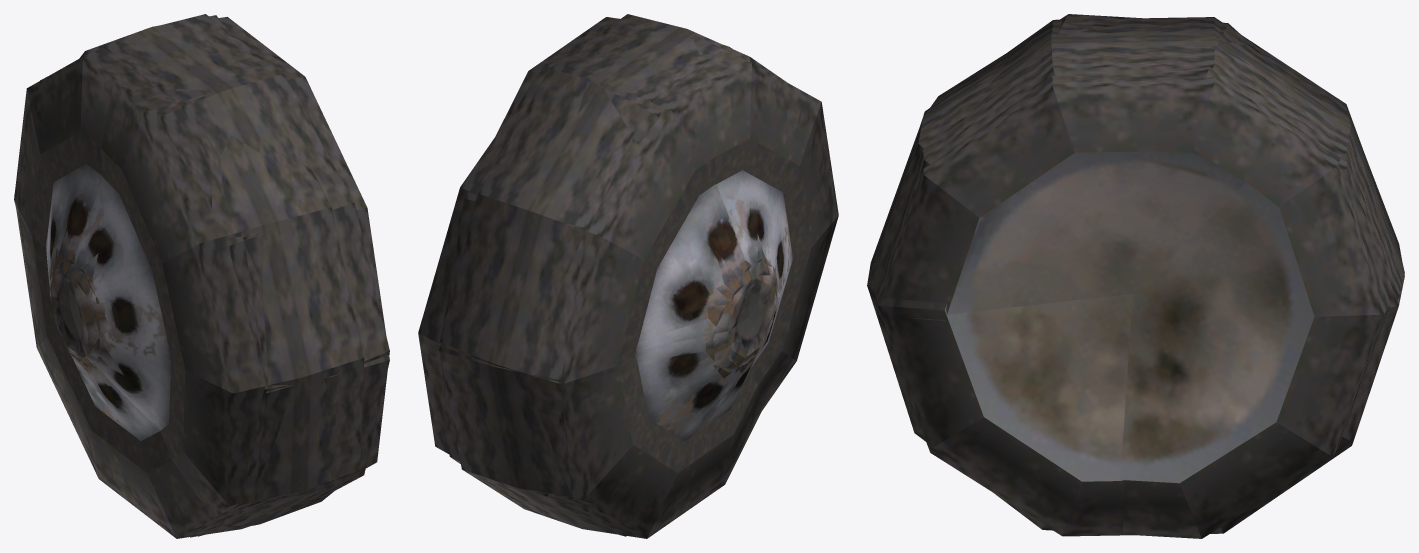
File: Wheel01.fbx
3 views of the same model, side by side, from view 1: azimuth 30°, elevation 25°; view 2: azimuth 150°, elevation 25°; view 3: azimuth 270°, elevation 25° (orthographic). The views are drawn at different scales.
Parts seen in each view (by area): view 1: WHEELL_FRONT_03, WHEELL_FRONT_02, WHEELL_FRONT_01; view 2: WHEELL_FRONT_02, WHEELL_FRONT_01, WHEELL_FRONT_03; view 3: WHEELL_FRONT_03, WHEELL_FRONT_01, WHEELL_FRONT_02.
Part boxes in pixels (box(x1,y1,x2,y2)): WHEELL_FRONT_03: box(49, 15, 364, 537); WHEELL_FRONT_02: box(14, 14, 389, 536); WHEELL_FRONT_01: box(14, 17, 389, 538); WHEELL_FRONT_02: box(440, 14, 785, 536); WHEELL_FRONT_01: box(439, 17, 778, 538); WHEELL_FRONT_03: box(418, 35, 838, 497); WHEELL_FRONT_03: box(867, 14, 1390, 538); WHEELL_FRONT_01: box(875, 22, 1404, 536); WHEELL_FRONT_02: box(875, 17, 1404, 536).
Size of the model in its own units: 0.6061 by 1.11 by 1.16.
